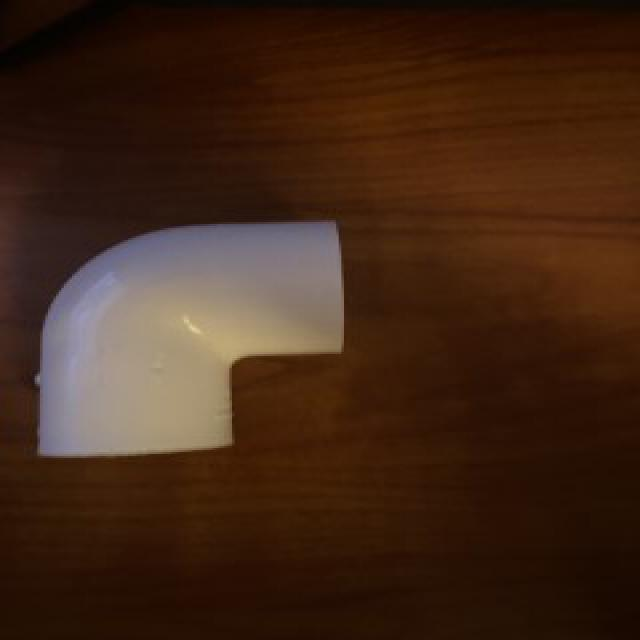L Joint: (35, 220, 346, 460)
